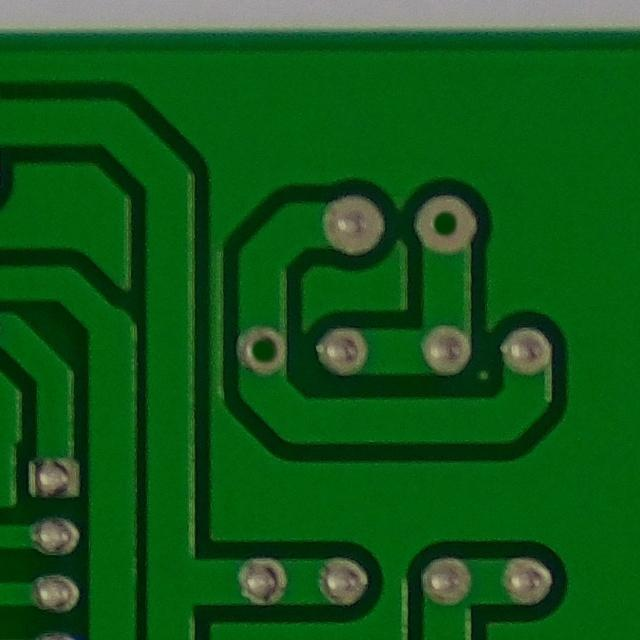missing_hole: (408, 187, 483, 259), (232, 315, 297, 387)
